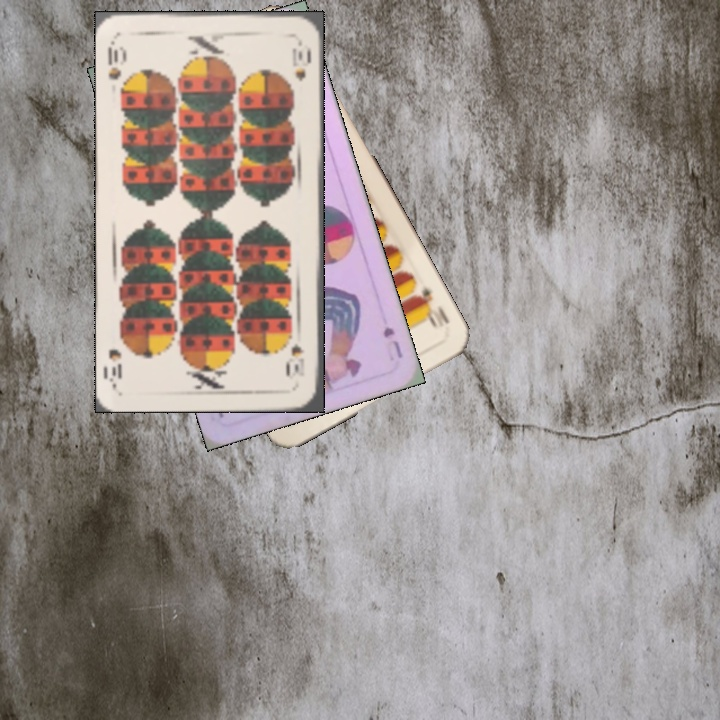E10: (411, 281, 453, 331)
S10: (104, 37, 129, 83), (288, 339, 307, 378)
SU: (379, 323, 405, 361)
